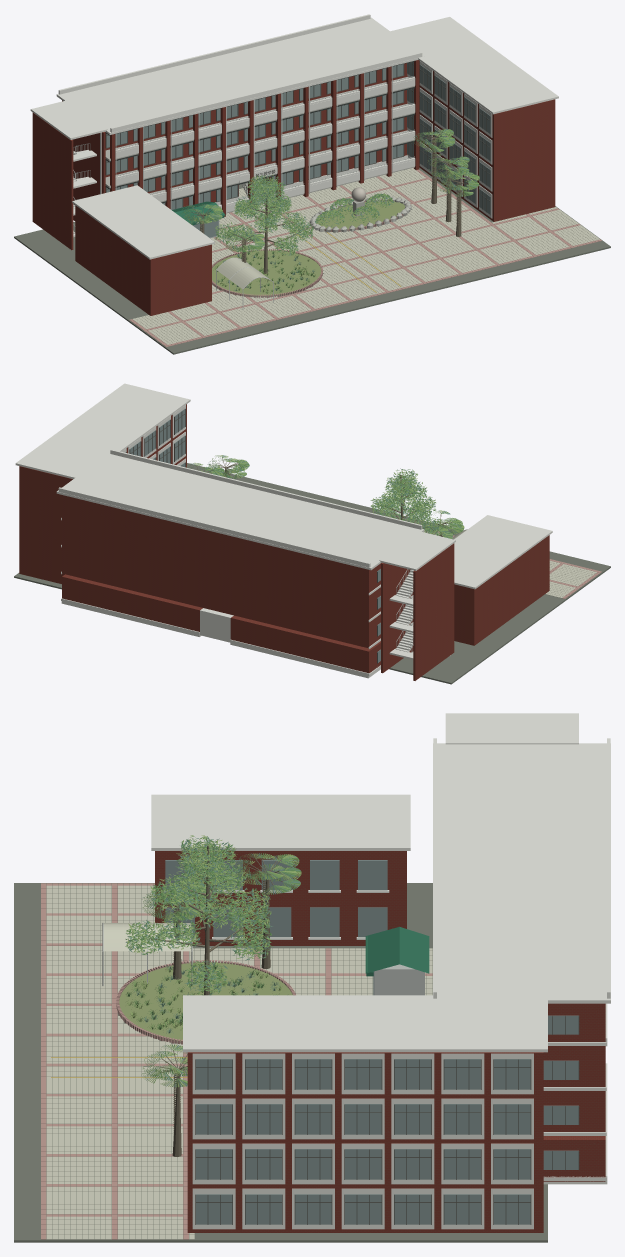
Rendered from teaching3.glb.
3 views of the same model, one above another, from view 1: azimuth 30°, elevation 25°; view 2: azimuth 150°, elevation 25°; view 3: azimuth 270°, elevation 25° (orthographic). The views are drawn at different scales.
Visible parts, largest first — view 1: grid paving.001, main projecting cornice, right classroom wing, classroom glazing, two storey annex, courtyard base, right wing cornice, grid paving, continuous red brick piers, stair red brick blade walls, annex white cornice, white gallery solid balustrade (+29 smaller); view 2: upper classroom block, main projecting cornice, right wing cornice, stair red brick blade walls, two storey annex, courtyard base, right classroom wing, annex white cornice, ground classrooms left, ground classrooms right, roof parapet, white lower plinth (+15 smaller); view 3: main projecting cornice, grid paving.001, wing broad windows, courtyard base, right wing cornice, wing white window surrounds, right classroom wing, annex white cornice, two storey annex, grid paving, annex windows, planted island lawn (+22 smaller).
Part boxes in pixels (x1=…): grid paving.001: x1=132, y1=168, x2=599, y2=344; main projecting cornice: x1=56, y1=17, x2=423, y2=134; right classroom wing: x1=409, y1=61, x2=555, y2=221; classroom glazing: x1=106, y1=64, x2=403, y2=209; two storey annex: x1=75, y1=205, x2=211, y2=315; courtyard base: x1=14, y1=167, x2=610, y2=354; right wing cornice: x1=390, y1=17, x2=558, y2=114; grid paving: x1=129, y1=167, x2=601, y2=346; continuous red brick piers: x1=110, y1=60, x2=419, y2=216; stair red brick blade walls: x1=32, y1=112, x2=105, y2=250; annex white cornice: x1=72, y1=185, x2=214, y2=259; white gallery solid balustrade: x1=115, y1=77, x2=415, y2=212; upper classroom block: x1=62, y1=495, x2=381, y2=648; main projecting cornice: x1=56, y1=452, x2=424, y2=570; right wing cornice: x1=15, y1=383, x2=190, y2=479; stair red brick blade walls: x1=381, y1=543, x2=454, y2=680; two storey annex: x1=454, y1=535, x2=549, y2=645; courtyard base: x1=14, y1=463, x2=610, y2=684; right classroom wing: x1=19, y1=404, x2=186, y2=583; annex white cornice: x1=454, y1=515, x2=552, y2=589; ground classrooms left: x1=230, y1=615, x2=380, y2=673; ground classrooms right: x1=62, y1=574, x2=202, y2=631; roof parapet: x1=58, y1=449, x2=422, y2=567; white lower plinth: x1=61, y1=598, x2=380, y2=678; main projecting cornice: x1=433, y1=743, x2=610, y2=1003; grid paving.001: x1=46, y1=885, x2=432, y2=1239; wing broad windows: x1=196, y1=1059, x2=530, y2=1224; courtyard base: x1=14, y1=883, x2=547, y2=1242; right wing cornice: x1=183, y1=995, x2=547, y2=1052; wing white window surrounds: x1=192, y1=1053, x2=533, y2=1229; right classroom wing: x1=187, y1=1052, x2=543, y2=1232; annex white cornice: x1=151, y1=794, x2=410, y2=850; two storey annex: x1=155, y1=851, x2=406, y2=945; grid paving: x1=41, y1=883, x2=432, y2=1239; annex windows: x1=165, y1=860, x2=387, y2=937; planted island lawn: x1=119, y1=962, x2=292, y2=1041.
Bounding box in the file's own units: 57 × 14.82 × 40.25.
Materials: 20 (1 with a texture image).
